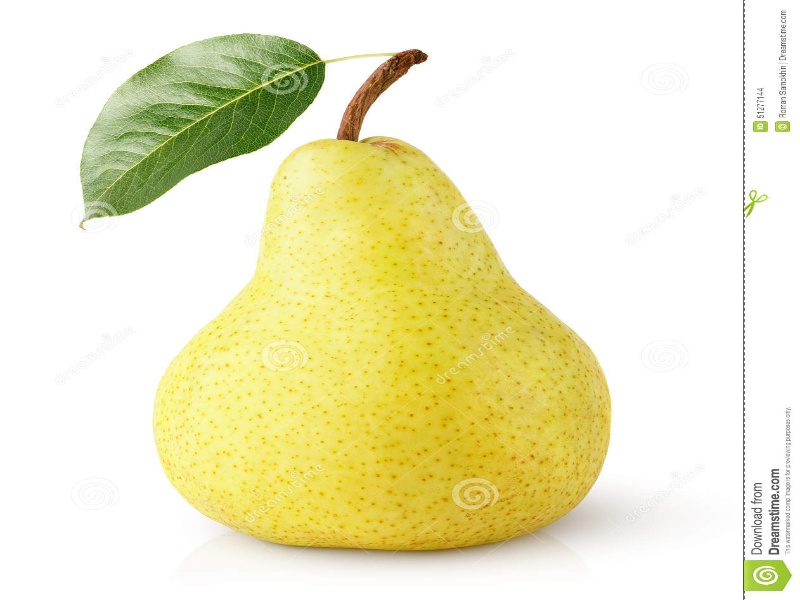Pera: (154, 49, 612, 551)
